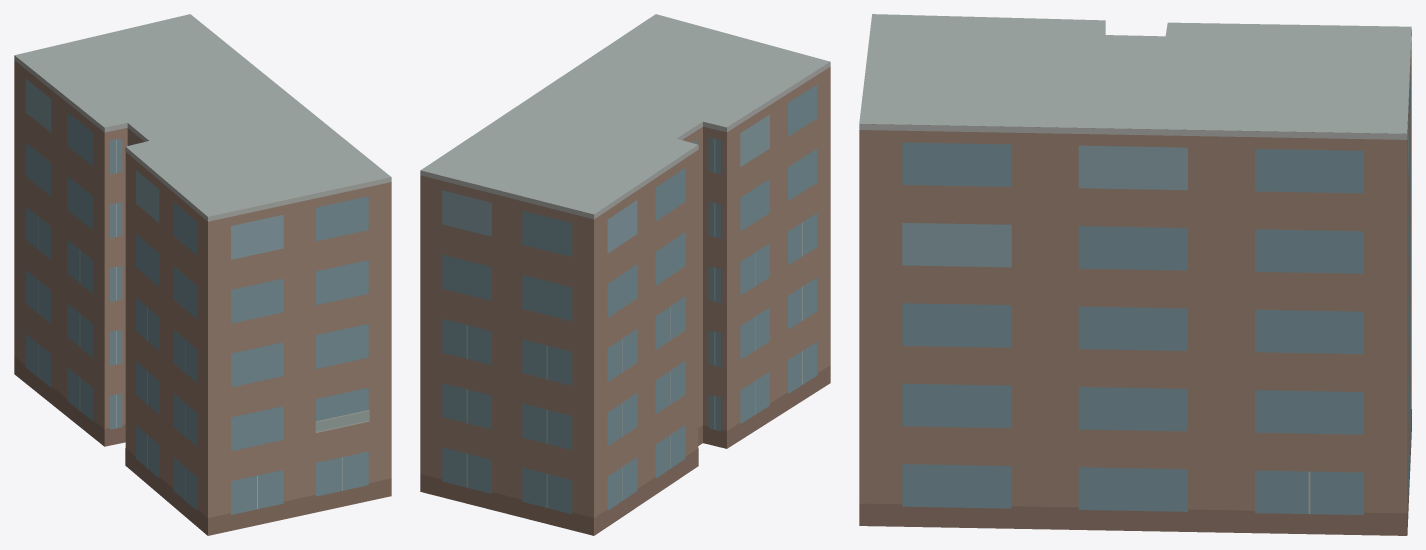
File: survey-upis-32580797.glb
3 renders of one model, left to right at view 1: azimuth 30°, elevation 25°; view 2: azimuth 150°, elevation 25°; view 3: azimuth 270°, elevation 25°, orthographic. The views are drawn at different scales.
Parts seen in each view (by area): view 1: survey-upis-32580797.tmp; view 2: survey-upis-32580797.tmp; view 3: survey-upis-32580797.tmp.
Part boxes in pixels (<box>): survey-upis-32580797.tmp: <box>14,14,391,535</box>; survey-upis-32580797.tmp: <box>420,14,830,535</box>; survey-upis-32580797.tmp: <box>859,14,1411,535</box>.
Size of the model in its own units: 10.23 by 16 by 19.94.
